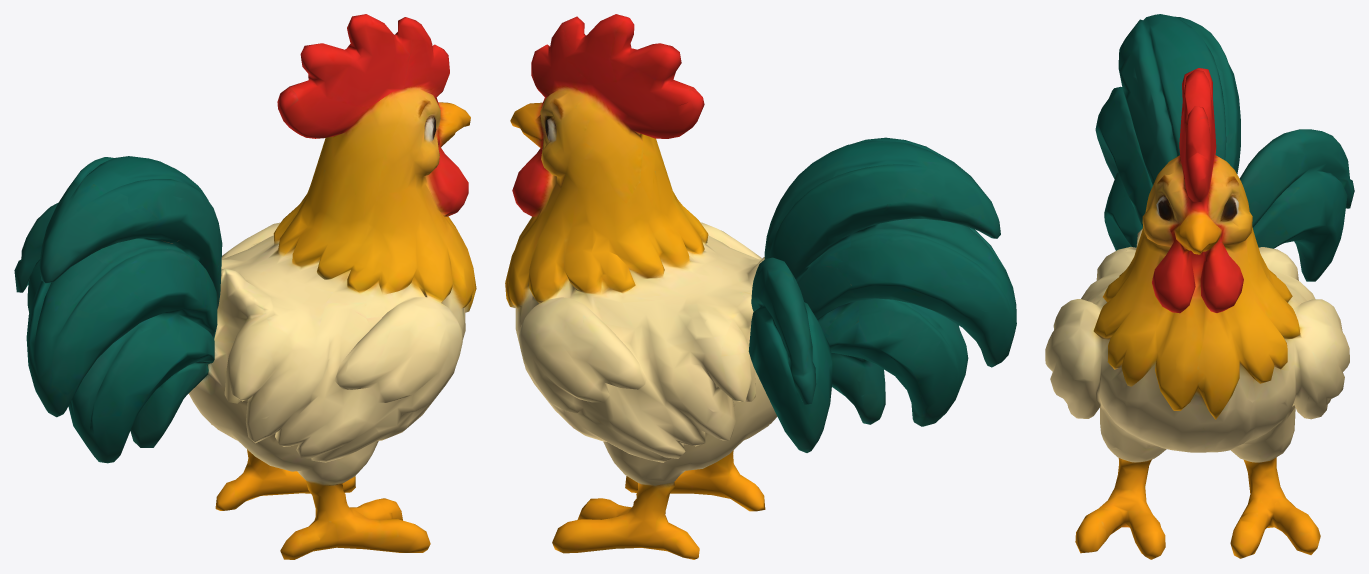
The model's file is rooster.glb.
The picture shows the model from 3 angles, left to right: view 1: azimuth 30°, elevation 25°; view 2: azimuth 150°, elevation 25°; view 3: azimuth 270°, elevation 25°; orthographic projection. The views are drawn at different scales.
Visible parts, largest first — view 1: tripo_node_0cc3acdc-e113-44bc-8f80-6e01d0adae59; view 2: tripo_node_0cc3acdc-e113-44bc-8f80-6e01d0adae59; view 3: tripo_node_0cc3acdc-e113-44bc-8f80-6e01d0adae59.
Part boxes in pixels (box(x1,y1,x2,y2)): tripo_node_0cc3acdc-e113-44bc-8f80-6e01d0adae59: box(14, 14, 476, 559); tripo_node_0cc3acdc-e113-44bc-8f80-6e01d0adae59: box(505, 14, 1016, 559); tripo_node_0cc3acdc-e113-44bc-8f80-6e01d0adae59: box(1045, 14, 1354, 559).
Bounding box in the file's own units: 0.9961 × 1 × 0.5843.
1 material, 1 textured.
